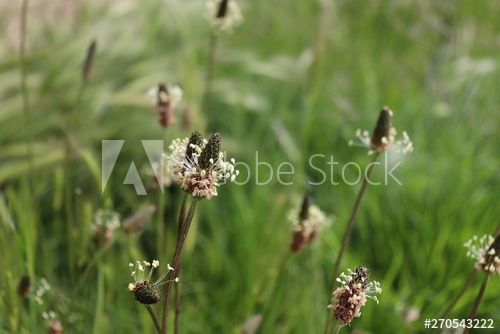buckhorn plantain: (349, 98, 419, 237), (154, 117, 207, 289), (110, 259, 172, 328), (332, 248, 377, 332)
